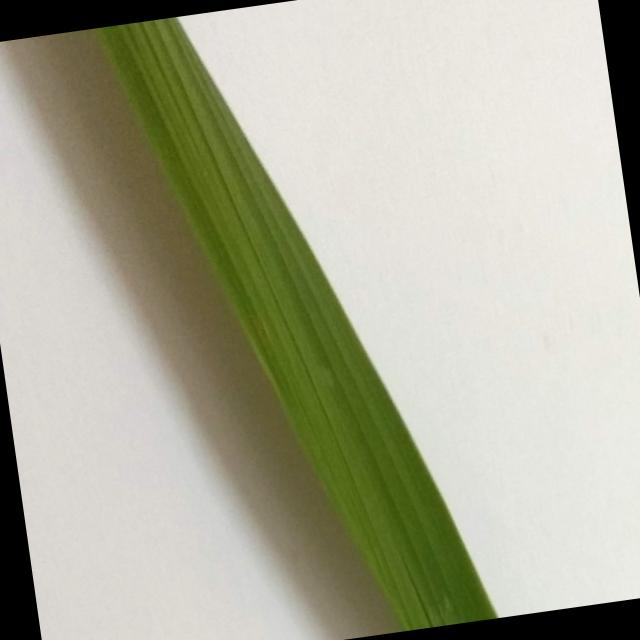Rice_Healthy: (97, 17, 498, 631)
